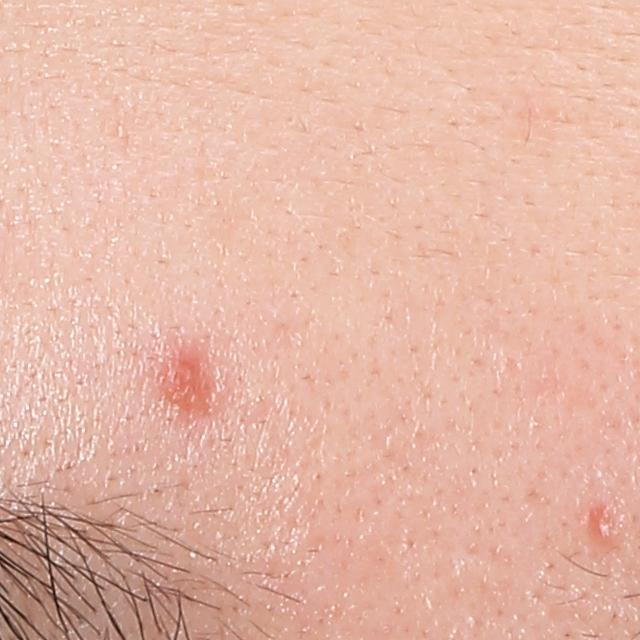papule: (151, 336, 214, 416), (593, 504, 628, 546)
